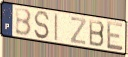B: (14, 8, 33, 38), (88, 18, 106, 48)
E: (106, 20, 124, 52)
I: (54, 12, 59, 43)
S: (33, 10, 50, 41)
Z: (70, 16, 87, 47)
